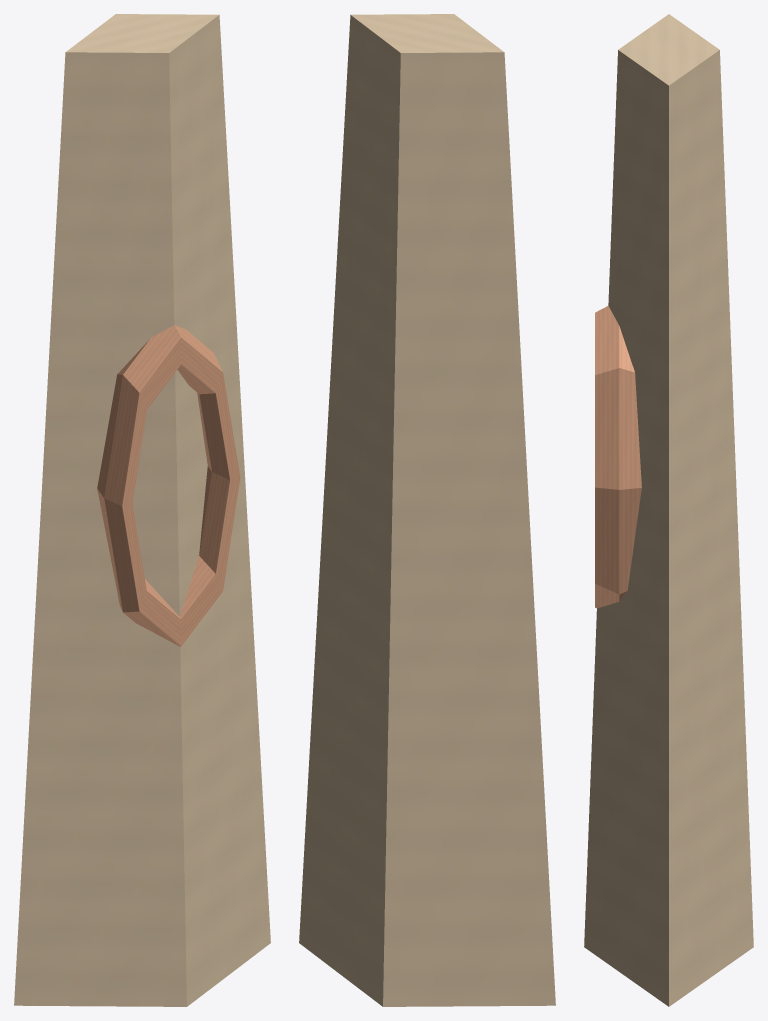
The model's file is atlas100-s082-a05.glb.
3 views of the same model, side by side, from view 1: azimuth 30°, elevation 25°; view 2: azimuth 150°, elevation 25°; view 3: azimuth 270°, elevation 25° (orthographic). The views are drawn at different scales.
Visible parts, largest first — view 1: atlas100-s082-a05:part-000, atlas100-s082-a05:part-001; view 2: atlas100-s082-a05:part-000; view 3: atlas100-s082-a05:part-000, atlas100-s082-a05:part-001.
Part boxes in pixels (x1,y1,x2,y2): atlas100-s082-a05:part-000: (14,14,270,1006); atlas100-s082-a05:part-001: (97,325,240,646); atlas100-s082-a05:part-000: (299,14,555,1006); atlas100-s082-a05:part-000: (584,14,753,1006); atlas100-s082-a05:part-001: (595,305,641,608).
Bounding box in the file's own units: 0.2184 × 0.7644 × 0.131.
Materials: 2 (2 with a texture image).
